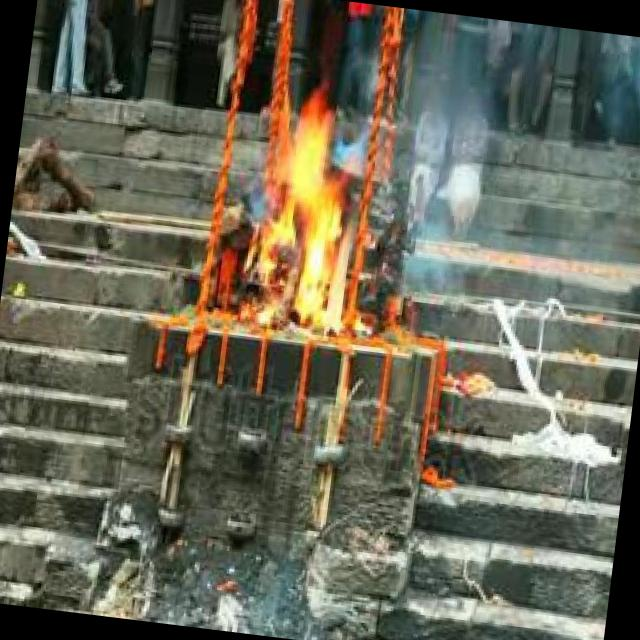Fire: (254, 94, 380, 340)
